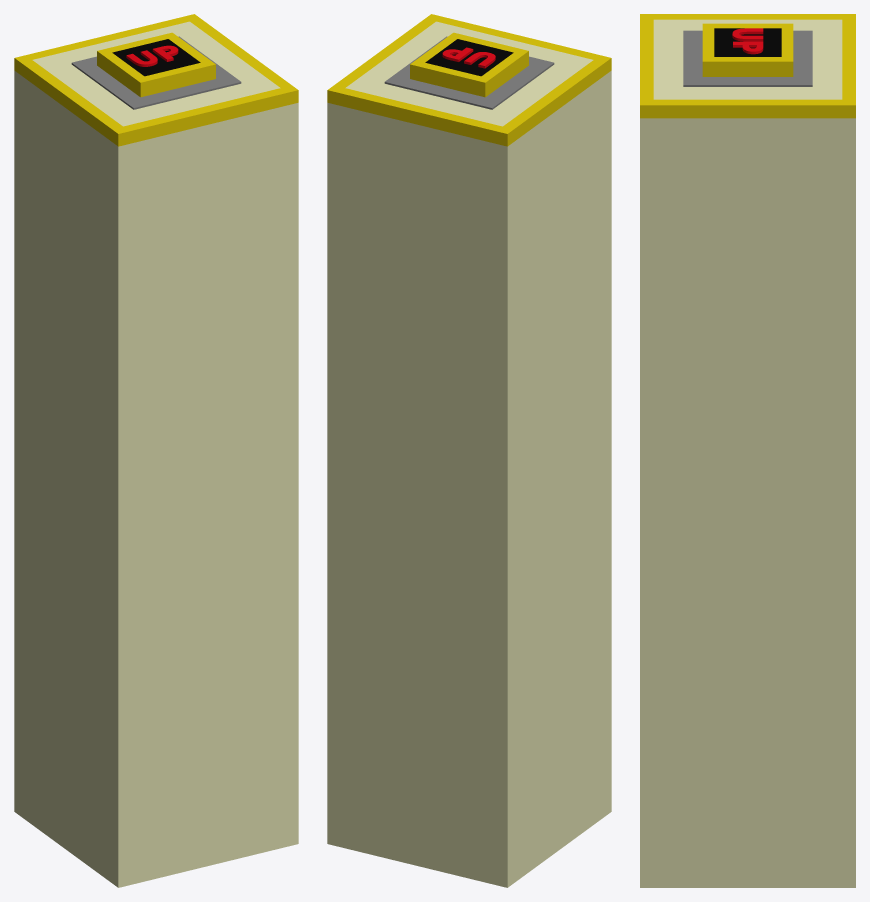
The model's file is yellow_yellow_up.fbx.
3 renders of one model, left to right at view 1: azimuth 30°, elevation 25°; view 2: azimuth 150°, elevation 25°; view 3: azimuth 270°, elevation 25°, orthographic. The views are drawn at different scales.
Parts seen in each view (by area): view 1: yellow_yellow_up; view 2: yellow_yellow_up; view 3: yellow_yellow_up.
Boxes of the visible parts, bbox=[...] form: yellow_yellow_up: bbox=[14, 14, 298, 887]; yellow_yellow_up: bbox=[327, 14, 611, 887]; yellow_yellow_up: bbox=[640, 14, 855, 887].
Size of the model in its own units: 1 by 4.1 by 1.
